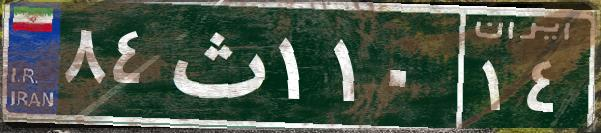0: (385, 28, 445, 110)
1: (273, 28, 330, 110), (330, 28, 385, 110), (475, 38, 525, 113)
4: (110, 28, 158, 105), (525, 38, 570, 115)
8: (57, 26, 110, 107)
ث: (158, 15, 273, 115)
